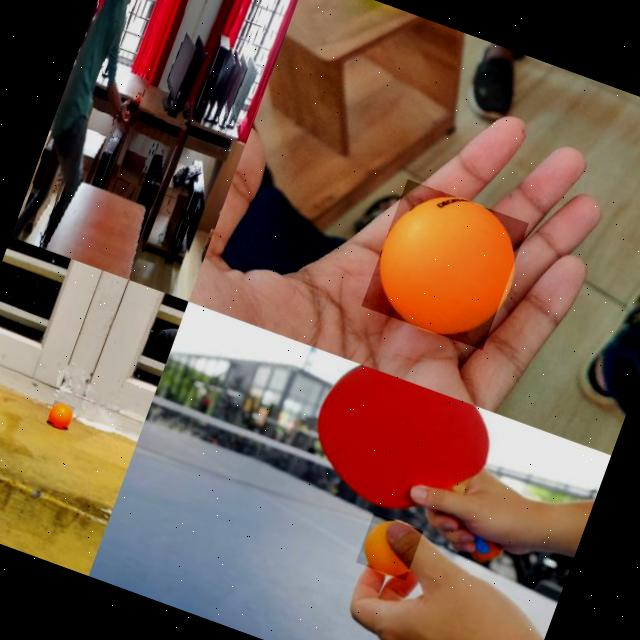ping-pong-ball: (360, 177, 529, 351), (355, 512, 424, 581), (46, 399, 76, 430), (132, 91, 142, 108)
